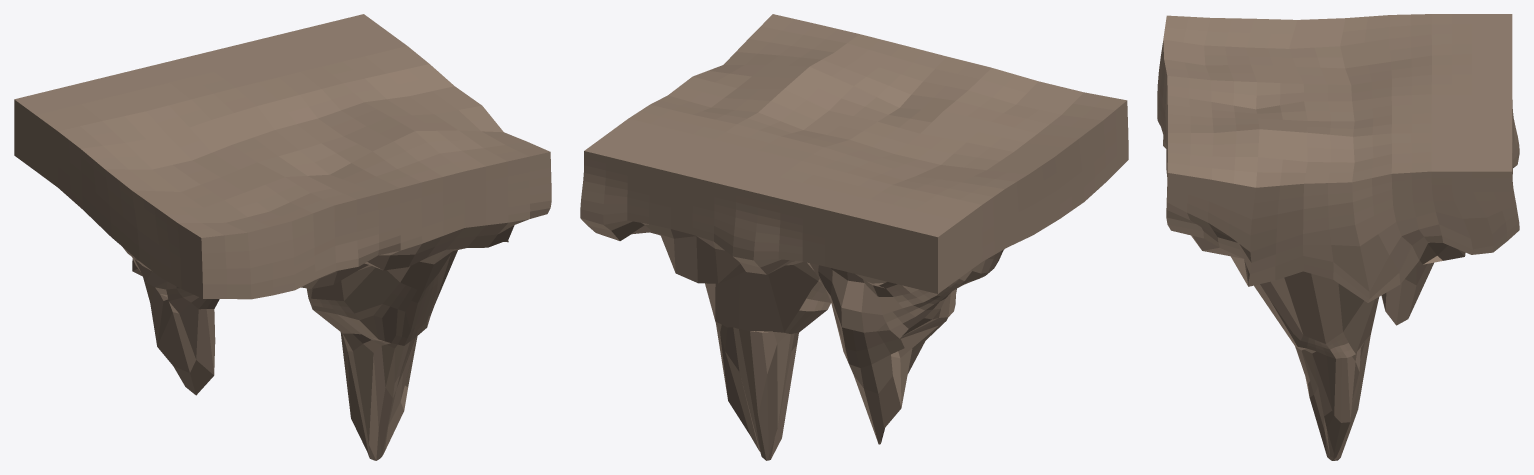
Rendered from stalagtite.fbx.
3 renders of one model, left to right at view 1: azimuth 30°, elevation 25°; view 2: azimuth 150°, elevation 25°; view 3: azimuth 270°, elevation 25°, orthographic. The views are drawn at different scales.
Visible parts, largest first — view 1: Cube; view 2: Cube; view 3: Cube.
Boxes of the visible parts, x1,y1,x2,y2 form: Cube: (14, 14, 551, 460); Cube: (580, 14, 1128, 460); Cube: (1157, 14, 1519, 460).
Bounding box in the file's own units: 418 × 400 × 396.
